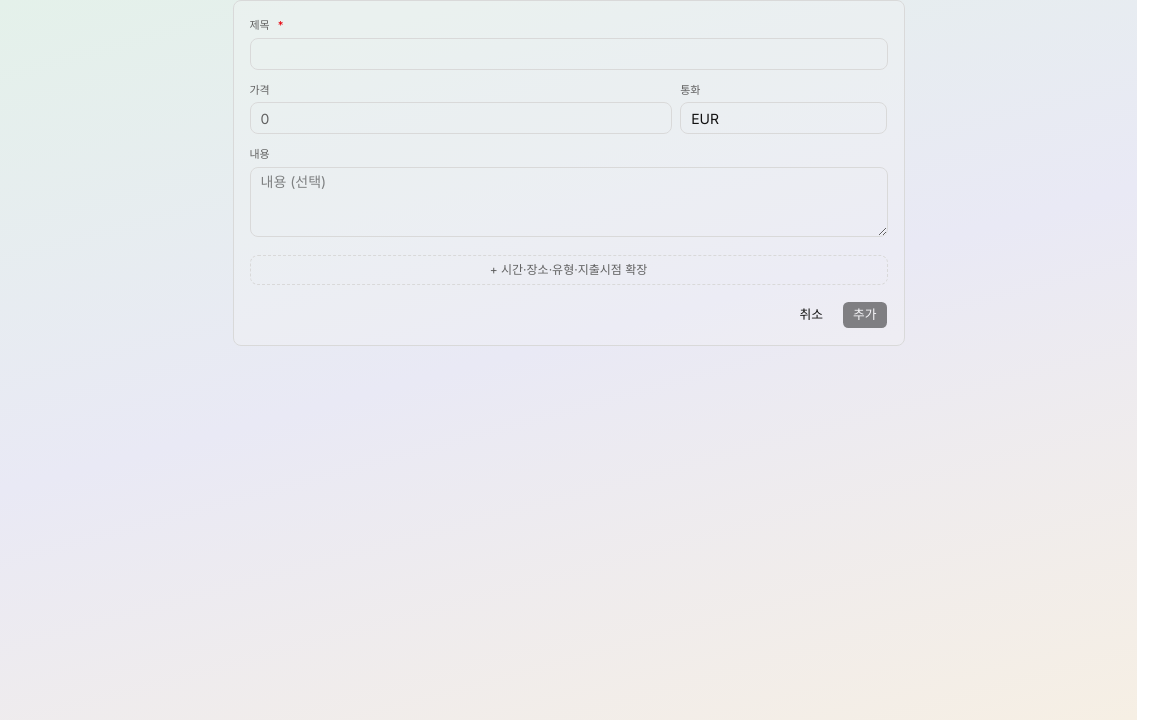
ActivityForm › 확장하면 유형·지출시점·시간·장소·링크가 나타난다
Click the button "+ 시간·장소·유형·지출시점 확장" at point(568, 270), box 250,254 -> 888,284
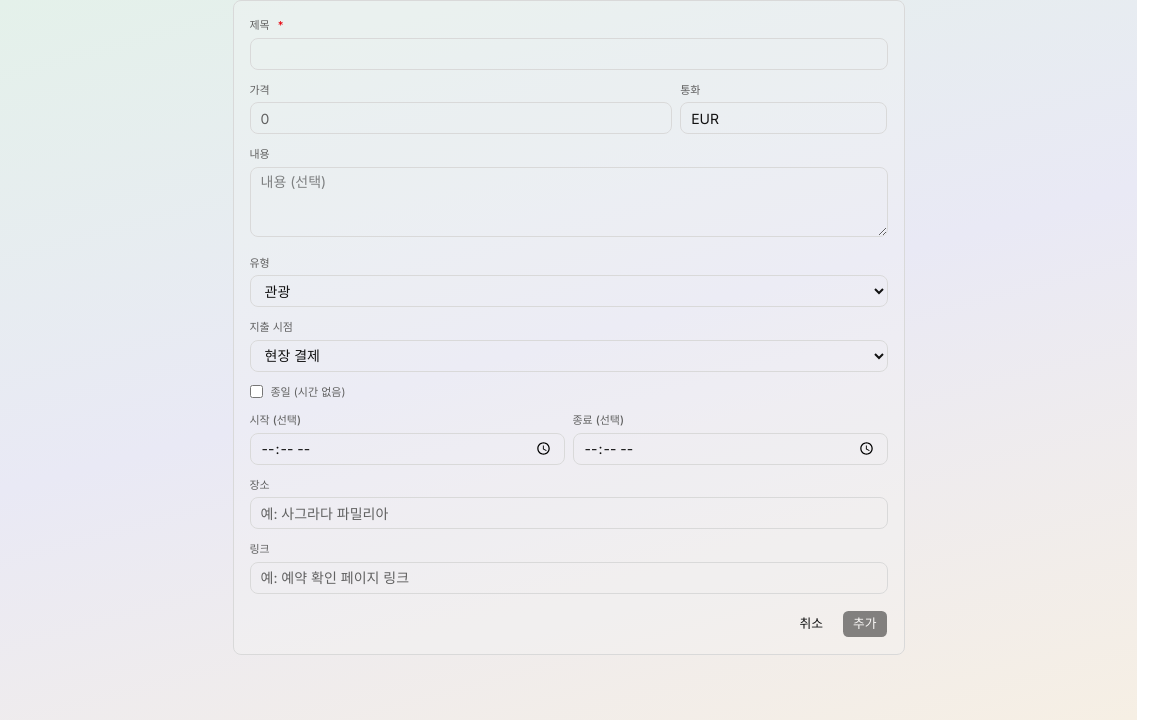
Result: the dropdown labelled "유형" is shown at 250,275 -> 888,307
Result: the dropdown labelled "지출 시점" is shown at 250,340 -> 888,372
Result: the field labelled "장소" is shown at 250,497 -> 888,529
